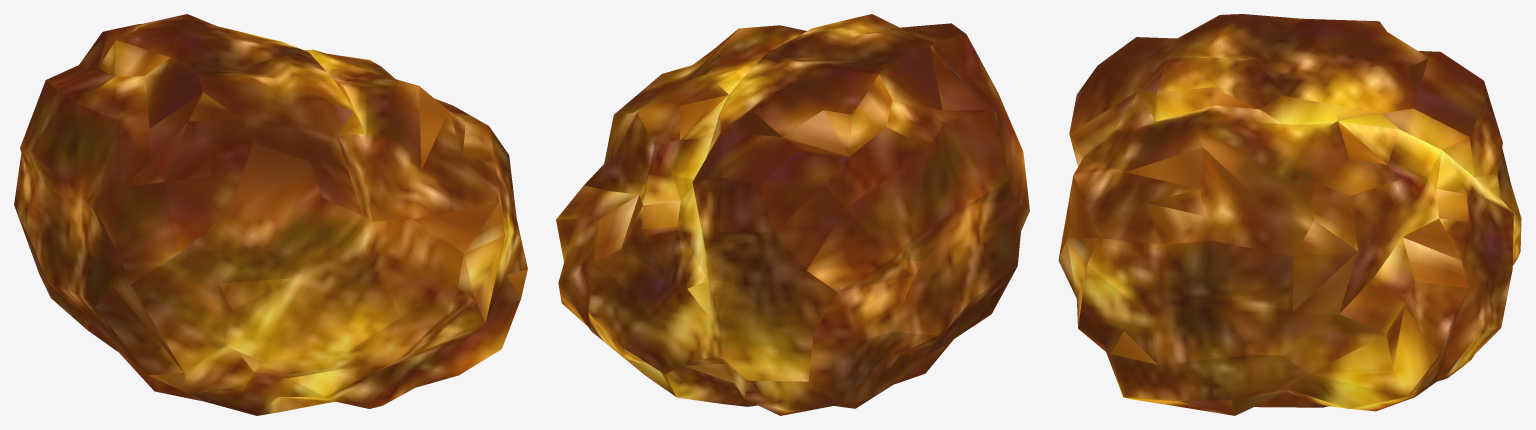
Rendered from meteor_yellow_bond_resin_05.glb.
The picture shows the model from 3 angles, left to right: view 1: azimuth 30°, elevation 25°; view 2: azimuth 150°, elevation 25°; view 3: azimuth 270°, elevation 25°; orthographic projection. The views are drawn at different scales.
Visible parts, largest first — view 1: Mesh_0; view 2: Mesh_0; view 3: Mesh_0.
Part boxes in pixels (<box>): Mesh_0: <box>14,14,527,415</box>; Mesh_0: <box>556,14,1029,415</box>; Mesh_0: <box>1058,14,1521,415</box>.
Bounding box in the file's own units: 1.9 × 1.46 × 1.91.
1 material, 1 textured.
